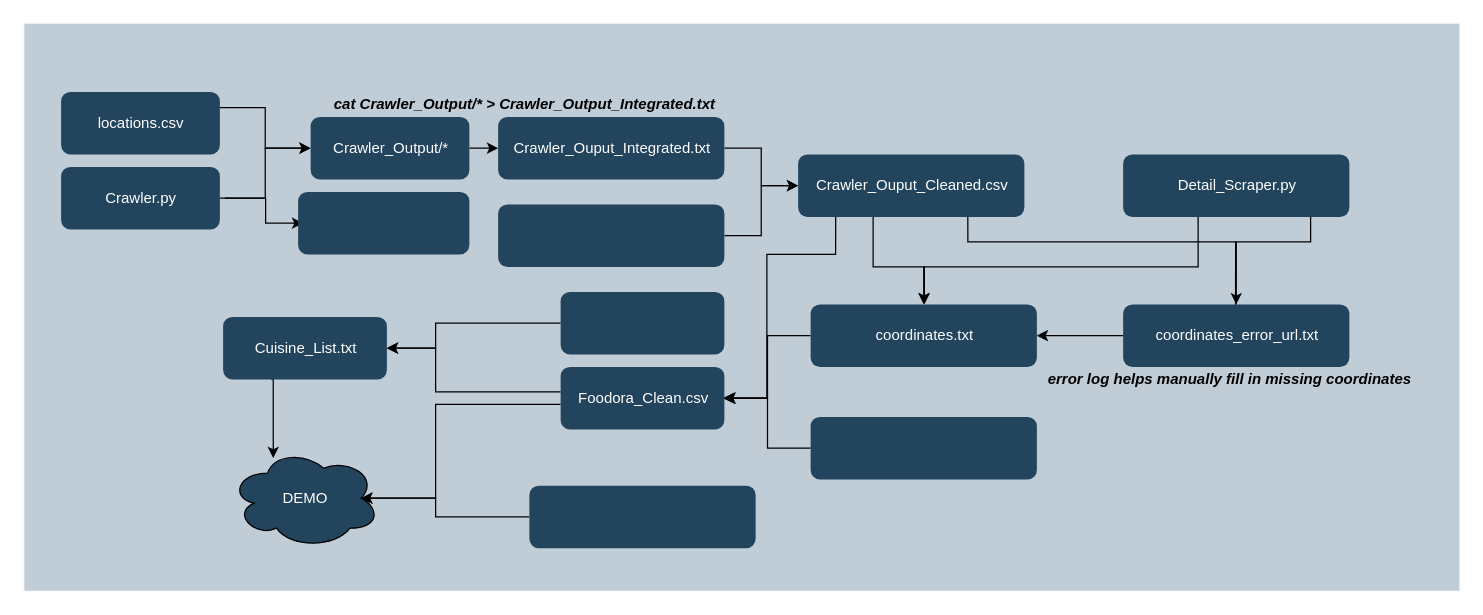
Some shapes in this 1483 by 615 pixel diagram are drawn without their labels. Each missing label, with the centre of its shape:
"Crawler_Output_Cleaner.py" goes at [611,235].
"Crawler_Output_Cleaner2.py" goes at [923,447].
"Cuisine_Lister.py" goes at [642,322].
"Foodora_Cuisine_Map.ipynb" goes at [642,516].
"unserviced_locations.txt" goes at [383,222].
